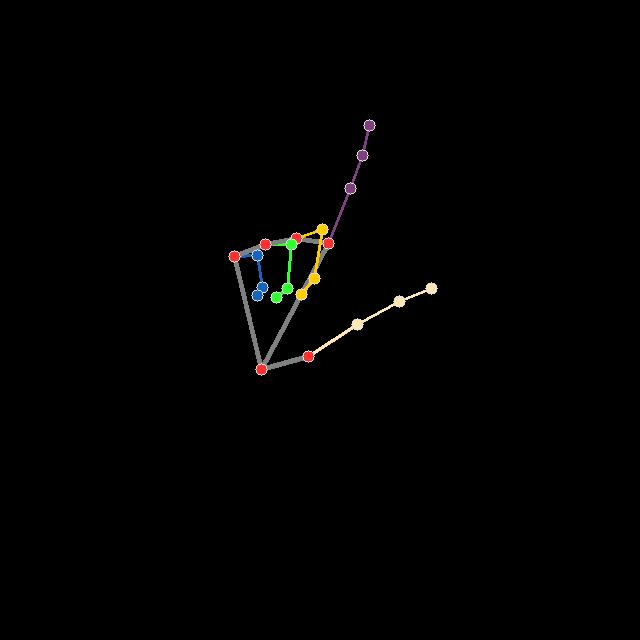gun: (226, 116, 443, 377)
